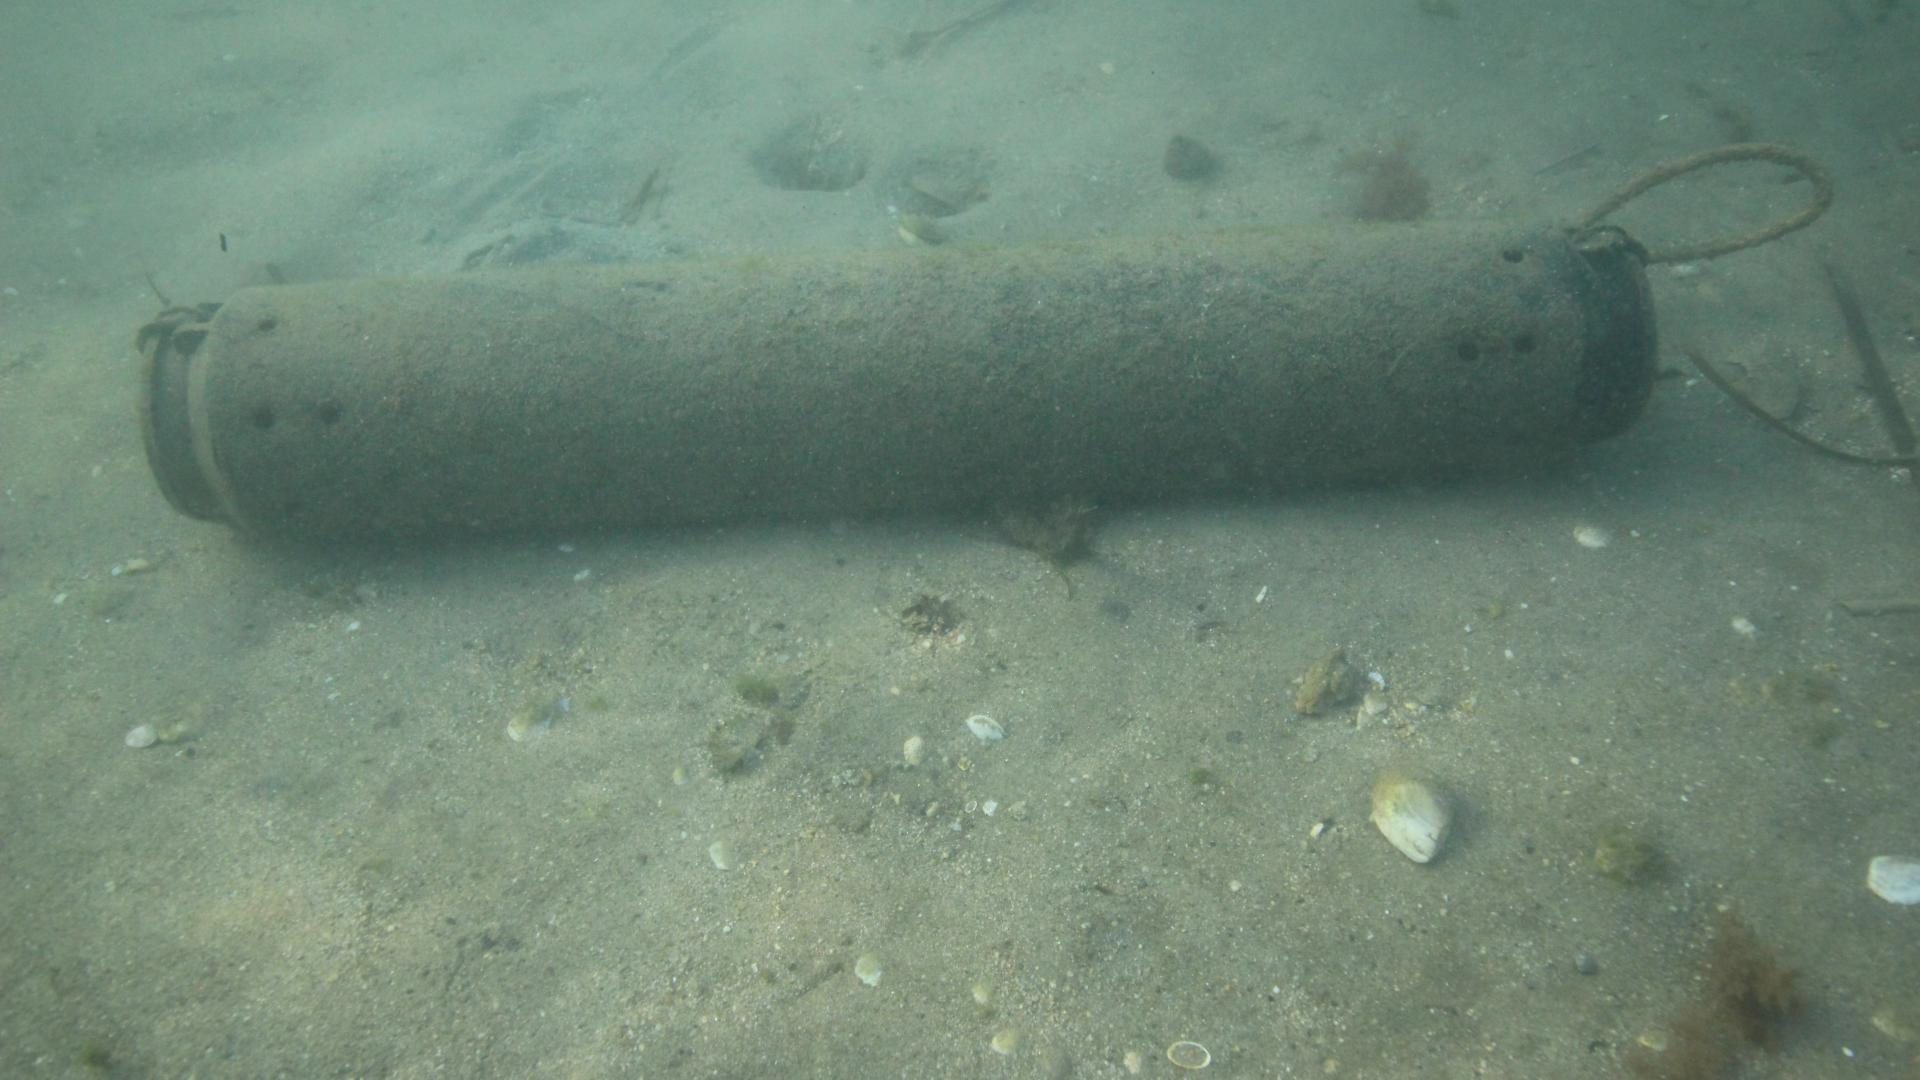eel fish trap: (133, 223, 1647, 539)
rope: (1565, 138, 1830, 260)
